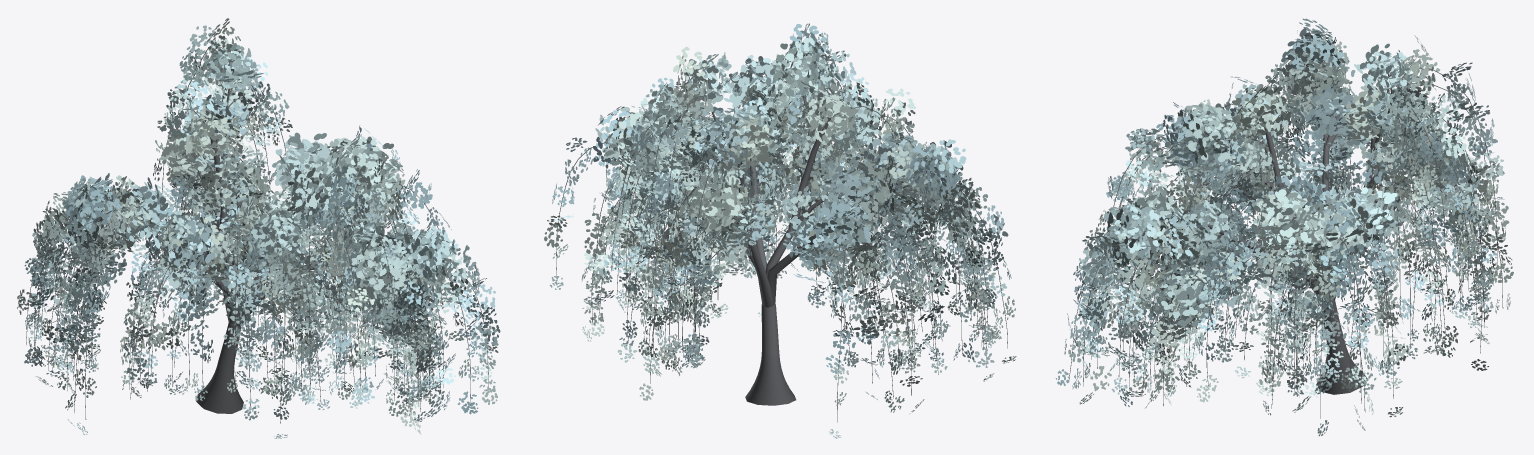
File: willow-original.glb
3 renders of one model, left to right at view 1: azimuth 30°, elevation 25°; view 2: azimuth 150°, elevation 25°; view 3: azimuth 270°, elevation 25°, orthographic. The views are drawn at different scales.
Parts seen in each view (by area): view 1: leaves, wood; view 2: leaves, wood; view 3: leaves, wood.
Boxes of the visible parts, x1,y1,x2,y2 form: leaves: [17, 18, 500, 438]; wood: [26, 45, 488, 423]; leaves: [544, 23, 1016, 438]; wood: [555, 55, 1007, 422]; leaves: [1055, 18, 1513, 436]; wood: [1069, 68, 1503, 418].
Bounding box in the file's own units: 10.97 × 8.89 × 10.08.
2 materials, 1 textured.
